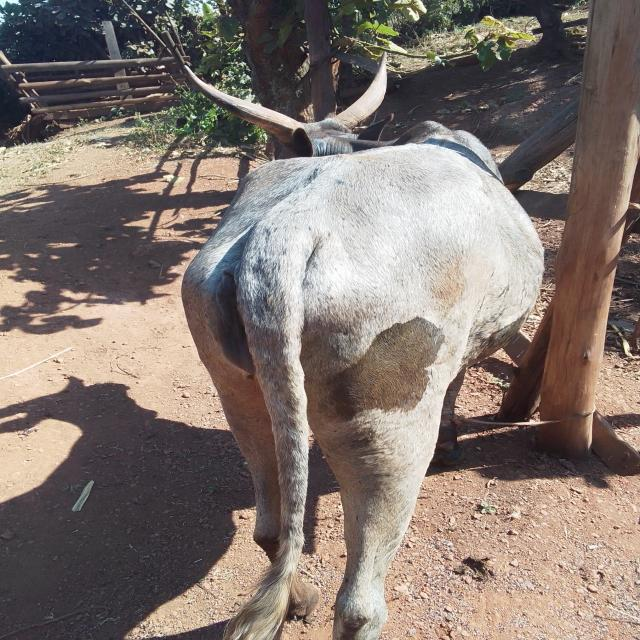Rear: (181, 51, 546, 640)
